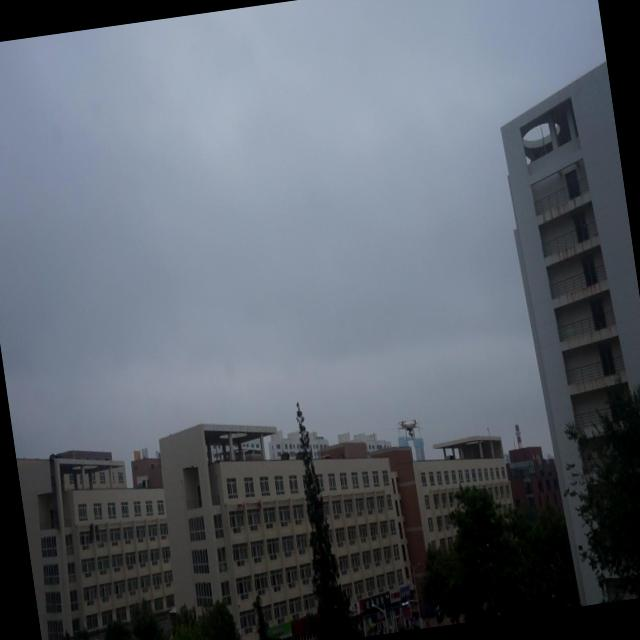drone: (398, 416, 422, 446)
